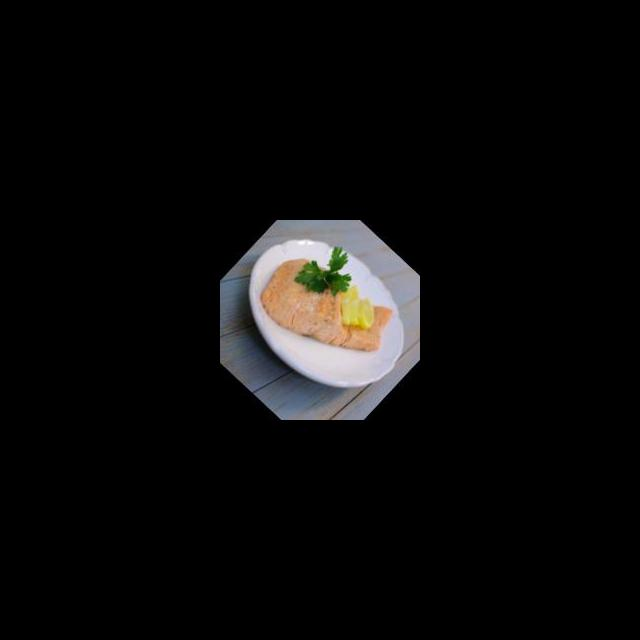ca hoi: (246, 230, 407, 390)
